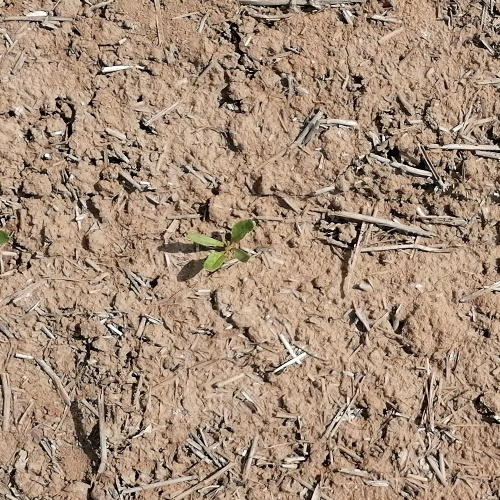beet: (185, 216, 257, 271)
